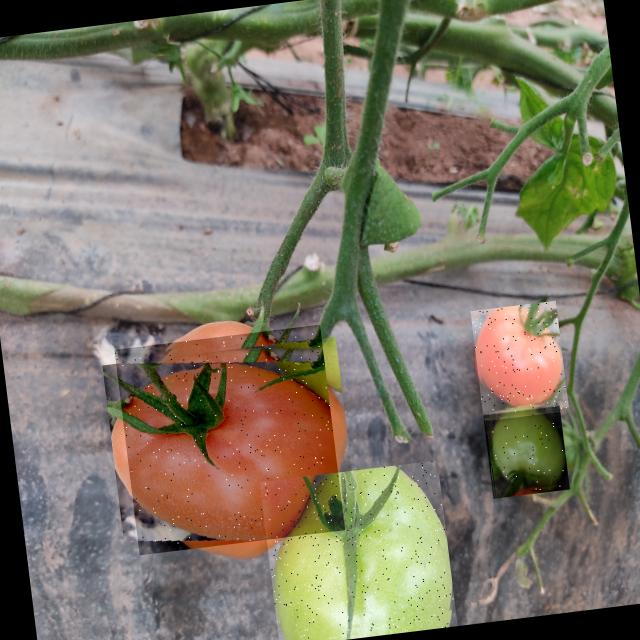Ripe Tomato: (114, 324, 345, 555), (470, 300, 569, 420)
Unripe Tomato: (259, 459, 457, 640), (483, 408, 569, 498)
